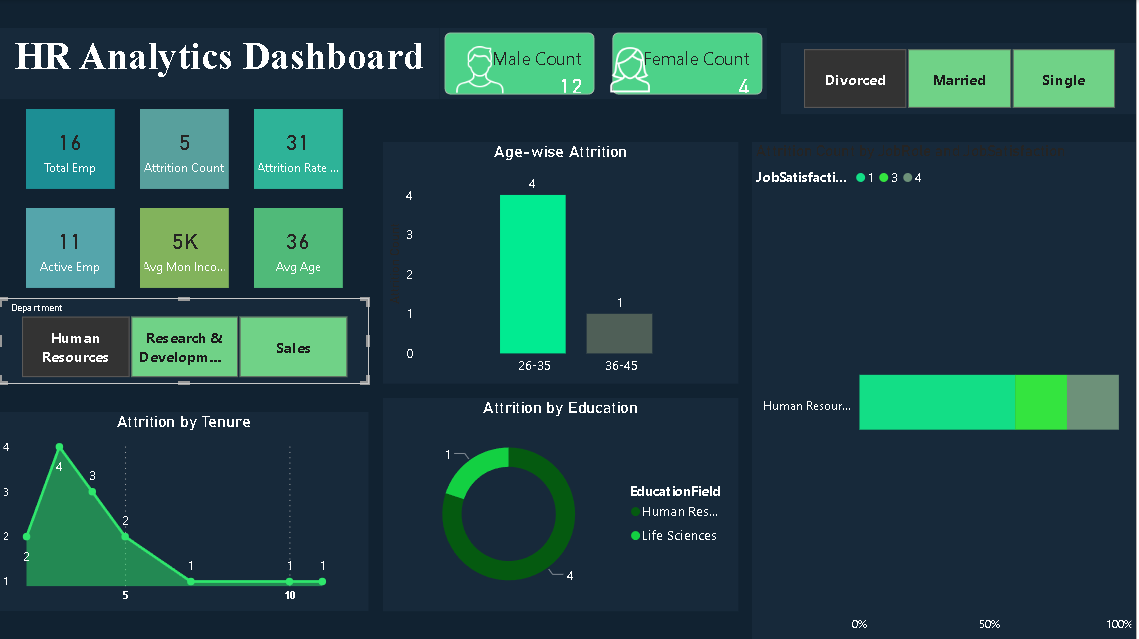

This screenshot's page, from the dashboard's own definition file:
{"tool":"powerbi","page":{"name":"Page 1","canvas":[1280,720],"ordinal":0},"visuals":[{"type":"card","fields":{"Values":["Measures-.Total Employees"]},"box":[30.7,122.7,100,90],"z":0},{"type":"slicer","fields":{"Values":["HR_Analytics.Department"]},"box":[0,336,416,96],"z":0,"group":"g1"},{"type":"slicer","fields":{"Values":["HR_Analytics.MaritalStatus"]},"box":[880,48,400,80],"z":1000},{"type":"card","fields":{"Values":["Measures-.Attrition Count"]},"box":[158.7,122.7,100,90],"z":2000},{"type":"card","fields":{"Values":["Measures-.Active Employees"]},"box":[30.7,234.7,100,90],"z":3000},{"type":"card","fields":{"Values":["Measures-.Attrition Rate %"]},"box":[286.7,122.7,100,90],"z":4000},{"type":"card","fields":{"Values":["Measures-.Avg Monthly Income"]},"box":[158.7,234.7,100,90],"z":5000},{"type":"areaChart","title":"Attrition by Tenure","fields":{"Y":["CountNonNull(HR_Analytics.Attrition)"],"Category":["HR_Analytics.YearsAtCompany"]},"box":[0,464,416,224],"z":6000},{"type":"donutChart","title":"Attrition by Education","fields":{"Y":["Measures-.Attrition Count"],"Series":["HR_Analytics.EducationField"]},"box":[432,448,400,240],"z":7000},{"type":"clusteredColumnChart","title":"Age-wise Attrition","fields":{"Category":["HR_Analytics.AgeGroup"],"Y":["Measures-.Attrition Count"]},"box":[432,160,400,272],"z":8000},{"type":"hundredPercentStackedBarChart","fields":{"Y":["Measures-.Attrition Count"],"Category":["HR_Analytics.JobRole"],"Series":["HR_Analytics.JobSatisfaction"]},"box":[848,160,432,560],"z":9000},{"type":"card","fields":{"Values":["Measures-.Avg Age"]},"box":[286.7,234.7,100,90],"z":10000},{"type":"cardVisual","fields":{"Data":["Measures-.Male Count","Measures-.Female Count"]},"box":[496,32,368,80],"z":11000,"group":"g2"},{"type":"group","id":"g1","title":"Group 1","box":[0,336,416,96],"z":11000},{"type":"textbox","box":[0,32,496,80],"z":12000},{"type":"image","box":[508.3,45.3,65.2,66.7],"z":12000,"group":"g2"},{"type":"group","id":"g2","title":"Group 2","box":[496,32,368,80],"z":13000},{"type":"image","box":[680,45.3,61.3,66.7],"z":13000,"group":"g2"}]}

Visuals, with their boxes in screenshot pixels (x1, y1, x2, y2), scaled from the page's 1280x720 canvas onto the 1139x639 screenshot:
card - Measures-.Total Employees: [left=27, top=109, right=116, bottom=189]
slicer - HR_Analytics.Department: [left=0, top=298, right=370, bottom=383]
slicer - HR_Analytics.MaritalStatus: [left=783, top=43, right=1138, bottom=114]
card - Measures-.Attrition Count: [left=141, top=109, right=230, bottom=189]
card - Measures-.Active Employees: [left=27, top=208, right=116, bottom=288]
card - Measures-.Attrition Rate %: [left=255, top=109, right=344, bottom=189]
card - Measures-.Avg Monthly Income: [left=141, top=208, right=230, bottom=288]
"Attrition by Tenure" areaChart: [left=0, top=412, right=370, bottom=611]
"Attrition by Education" donutChart: [left=384, top=398, right=740, bottom=611]
"Age-wise Attrition" clusteredColumnChart: [left=384, top=142, right=740, bottom=383]
hundredPercentStackedBarChart - Measures-.Attrition Count x HR_Analytics.JobRole: [left=755, top=142, right=1138, bottom=638]
card - Measures-.Avg Age: [left=255, top=208, right=344, bottom=288]
cardVisual - Measures-.Male Count x Measures-.Female Count: [left=441, top=28, right=769, bottom=99]
"Group 1" group: [left=0, top=298, right=370, bottom=383]
textbox: [left=0, top=28, right=441, bottom=99]
image: [left=452, top=40, right=510, bottom=99]
"Group 2" group: [left=441, top=28, right=769, bottom=99]
image: [left=605, top=40, right=660, bottom=99]
